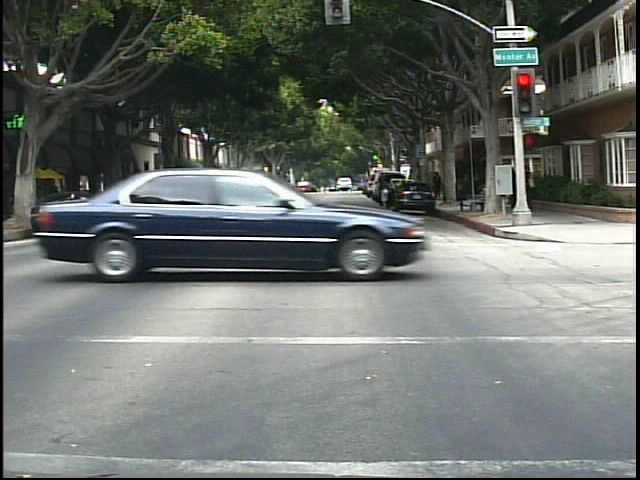person: (150, 172, 189, 242), (375, 172, 398, 213), (433, 169, 445, 199)
